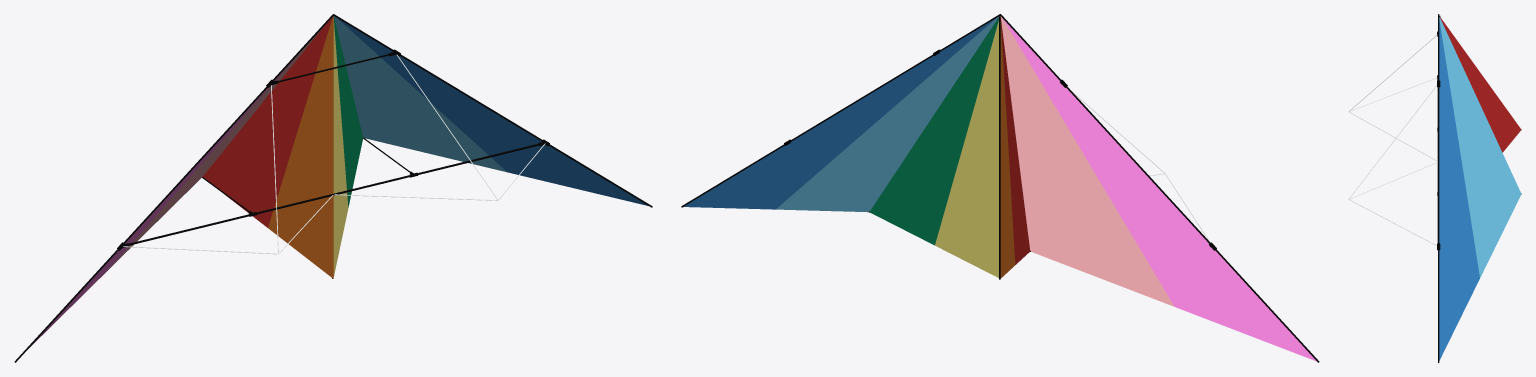
File: kite.glb
3 renders of one model, left to right at view 1: azimuth 30°, elevation 25°; view 2: azimuth 150°, elevation 25°; view 3: azimuth 270°, elevation 25°, orthographic. The views are drawn at different scales.
Parts seen in each view (by area): view 1: Kite; view 2: Kite; view 3: Kite.
Part boxes in pixels (box(x1,y1,x2,y2)): Kite: box(14, 14, 652, 362); Kite: box(681, 14, 1319, 362); Kite: box(1348, 14, 1521, 362).
Size of the model in its own units: 1.74 by 0.7079 by 0.501.
